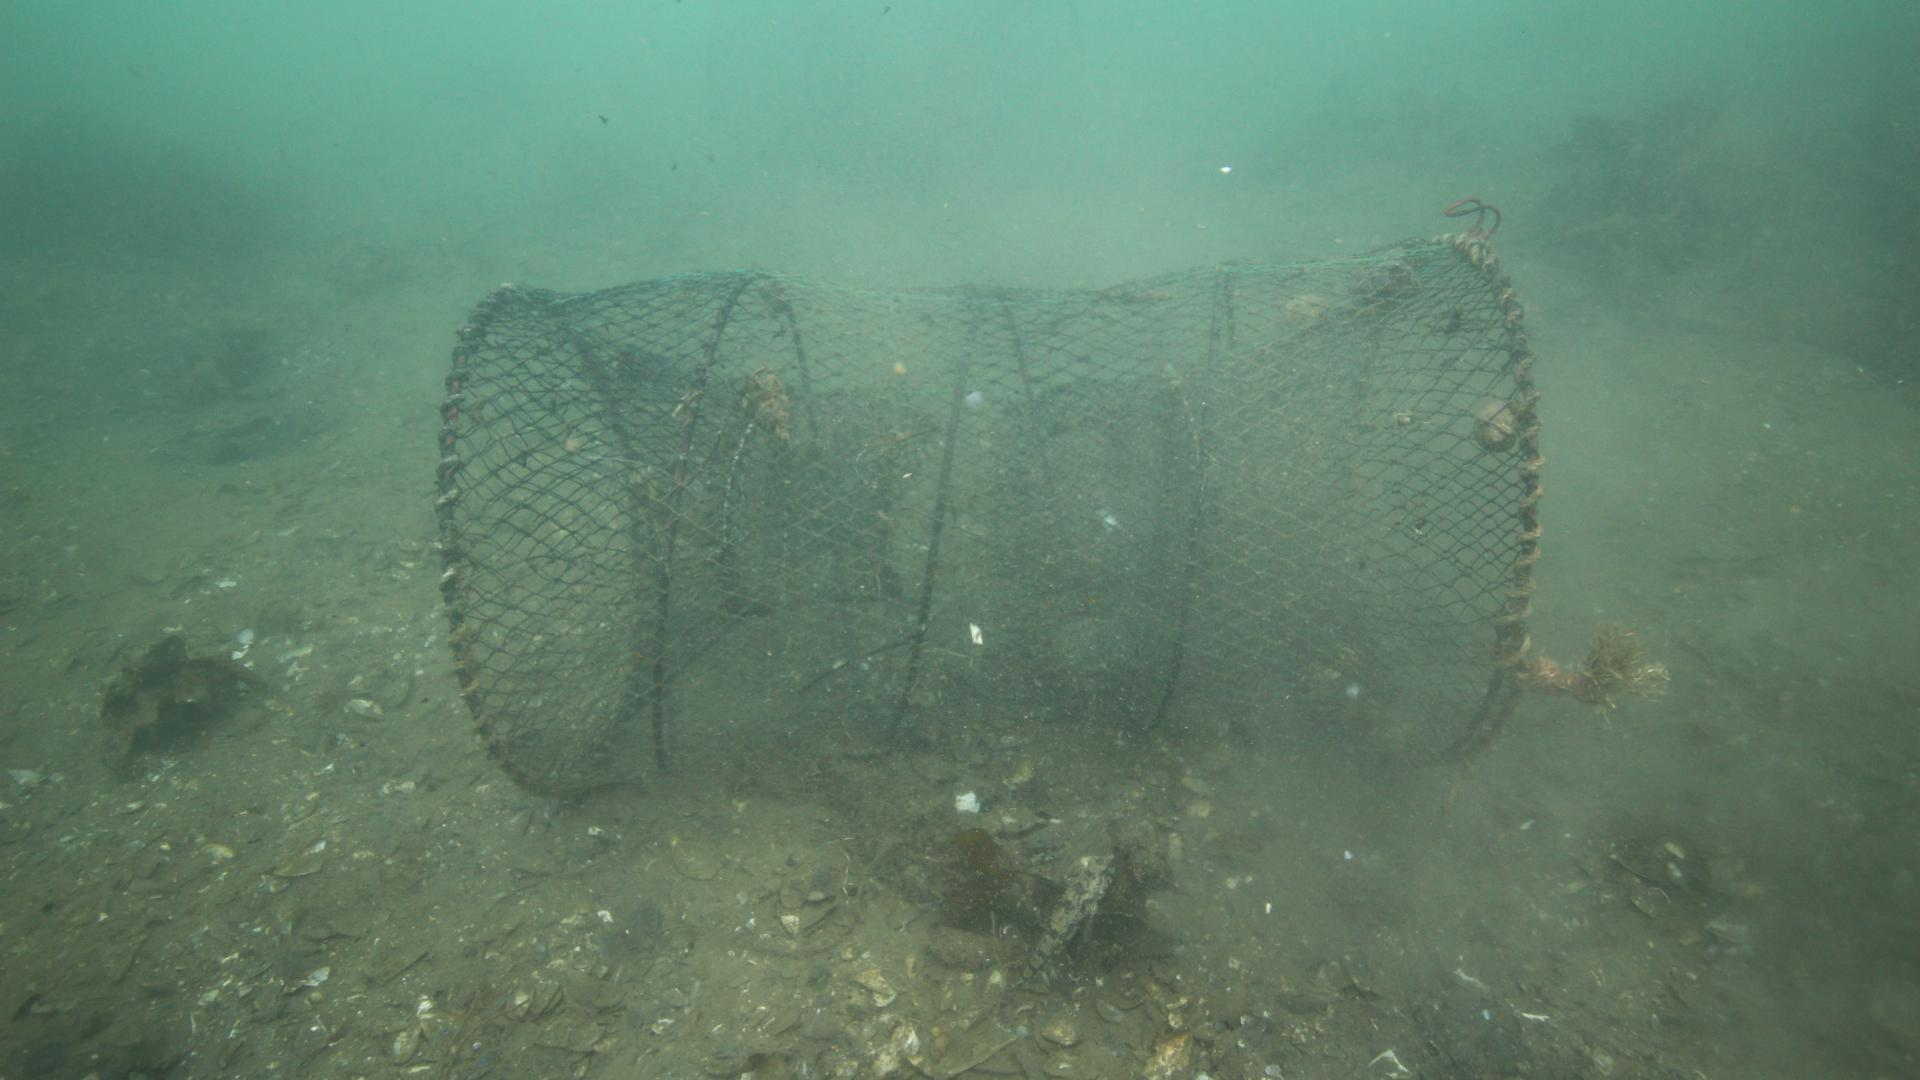spring fish trap: (436, 231, 1545, 793)
